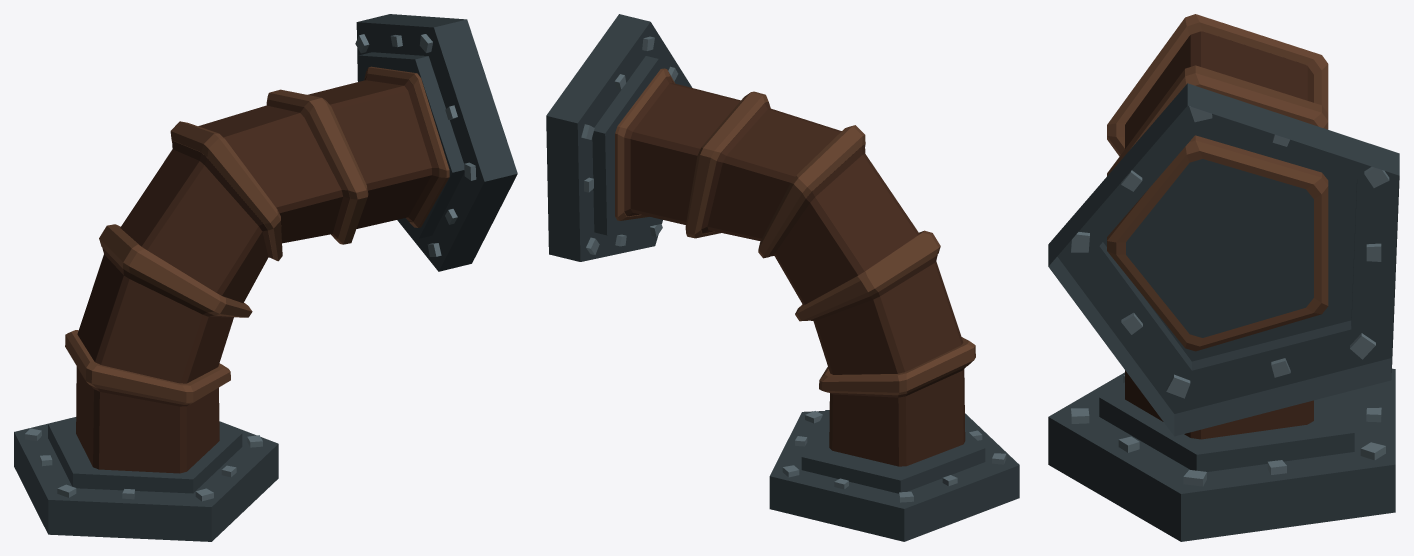
Rendered from pipe_curve.fbx.
3 views of the same model, side by side, from view 1: azimuth 30°, elevation 25°; view 2: azimuth 150°, elevation 25°; view 3: azimuth 270°, elevation 25° (orthographic). The views are drawn at different scales.
Parts seen in each view (by area): view 1: curve gen v2.004; view 2: curve gen v2.004; view 3: curve gen v2.004.
Boxes of the visible parts, x1,y1,x2,y2 form: curve gen v2.004: (14, 14, 517, 541); curve gen v2.004: (546, 14, 1019, 541); curve gen v2.004: (1048, 14, 1399, 541).
Size of the model in its own units: 3.48 by 3.24 by 1.83.
